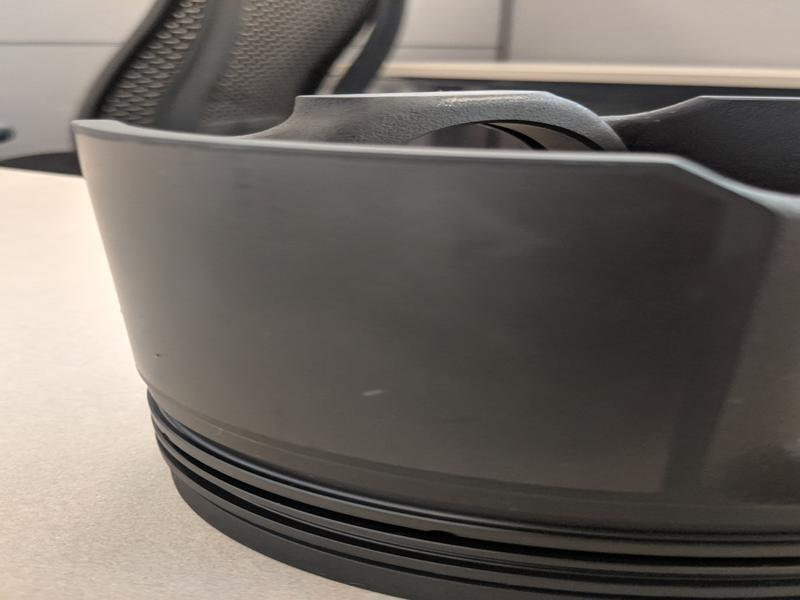piston: (65, 87, 800, 598)
